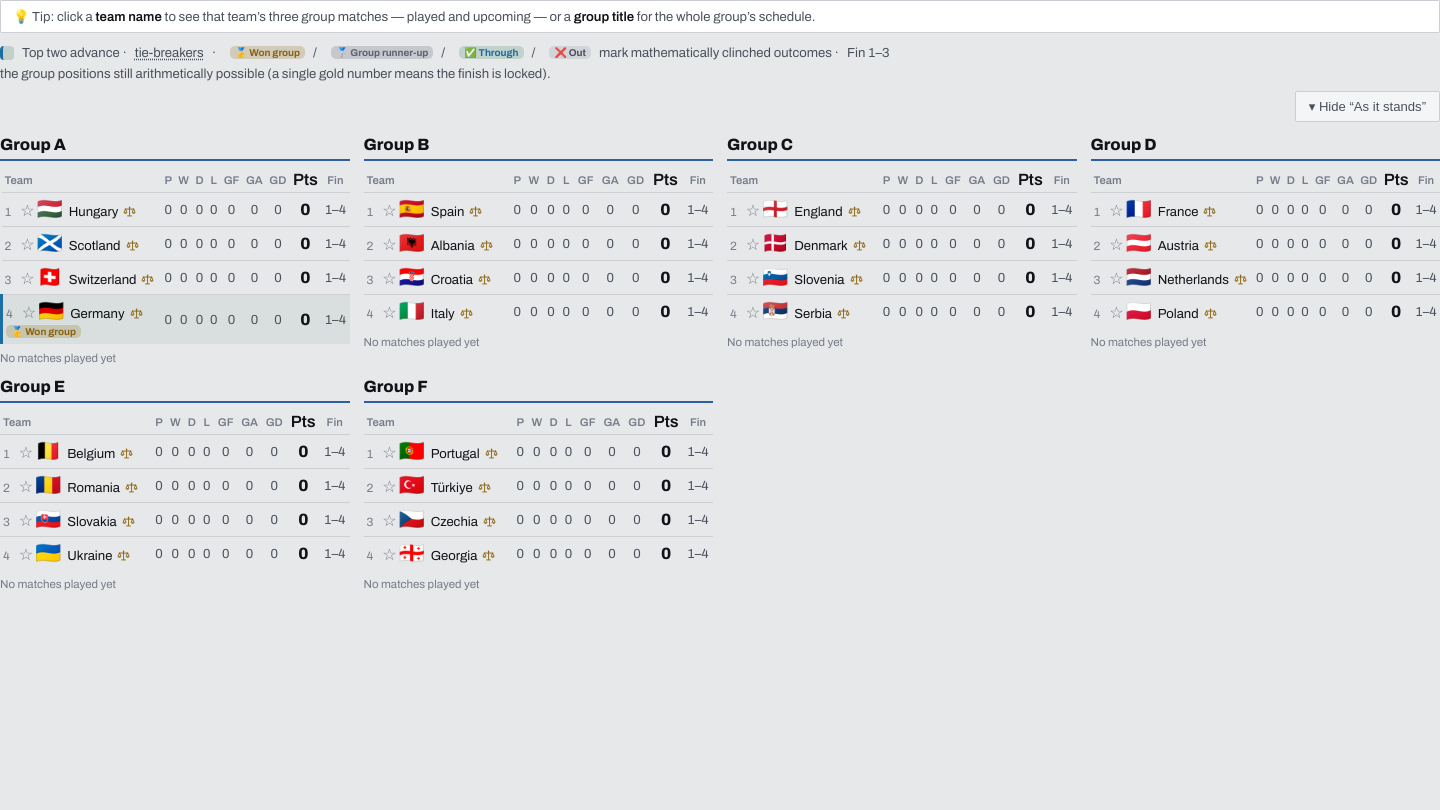
Group games pop-up › shows the Round-of-16 matchup for a team that has clinched a place
Click the button "Germany". click: (97, 314)
box: [70,306,124,322]
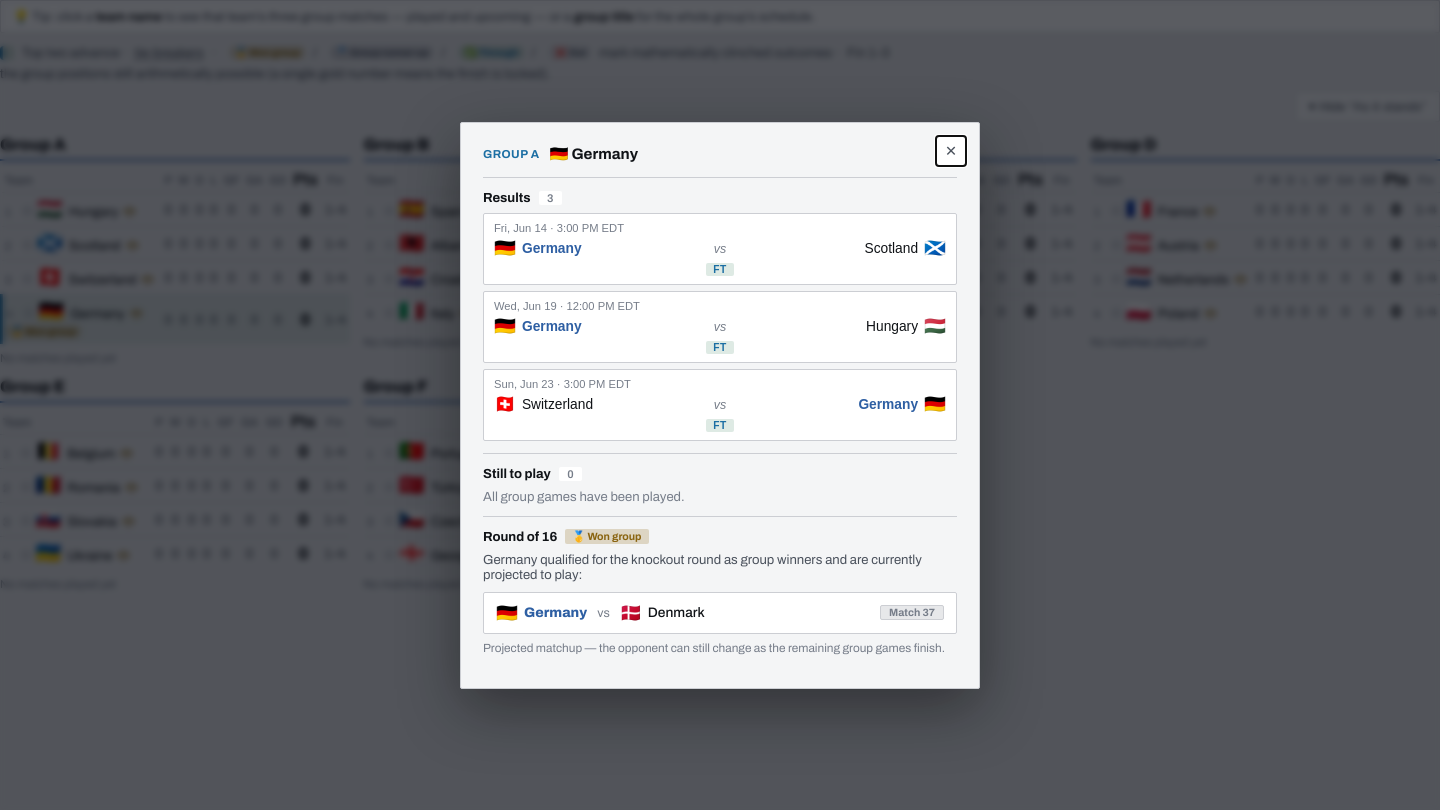
Expected: the element with class "gg-knockout" is shown, [483,516,957,654]
Expected: the element with class "gg-knockout" shows "Round of 16", [483,528,557,544]
Expected: the element with class "gg-knockout" shows "qualified for the knockout round", [537,552,724,566]
